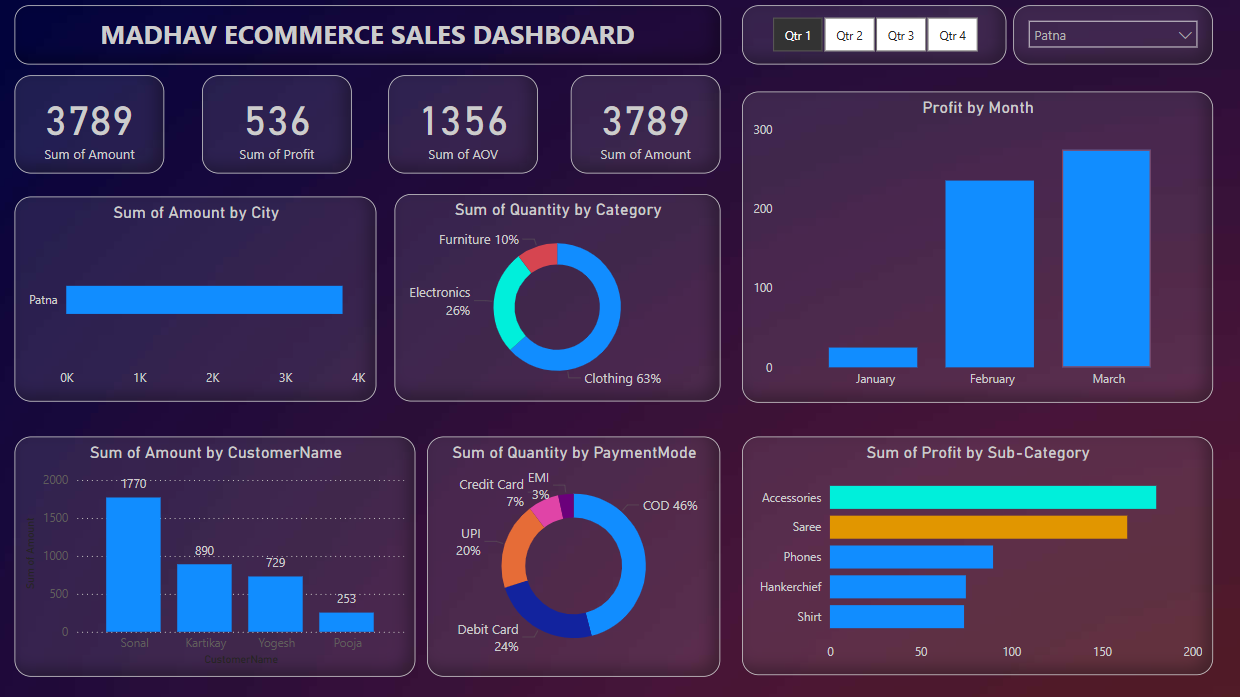

Layout of this report page (visuals, bound fields, positions):
{"tool":"powerbi","page":{"name":"Page 1","canvas":[1280,720],"ordinal":0},"visuals":[{"type":"textbox","box":[17.8,5.9,724.5,60.7],"z":0},{"type":"columnChart","title":"Profit by Month","fields":{"Category":["Orders.Order Date.Variation.Date Hierarchy.Month"],"Y":["Details.Profit"]},"box":[763.7,95.2,483,318.8],"z":1000},{"type":"barChart","fields":{"Category":["Details.Sub-Category"],"Y":["Details.Profit"]},"box":[763.7,448.5,483,245.1],"z":2000},{"type":"donutChart","fields":{"Category":["Details.Category"],"Y":["Details.Quantity"]},"box":[408,199.9,334.3,212.9],"z":3000},{"type":"donutChart","fields":{"Category":["Details.PaymentMode"],"Y":["Details.Quantity"]},"box":[441.3,448.5,301,246.2],"z":4000},{"type":"card","fields":{"Values":["Details.Amount"]},"box":[17.8,78.5,153.5,101.1],"z":5000},{"type":"card","fields":{"Values":["Details.Amount"]},"box":[588.8,78.5,153.5,101.1],"z":6000},{"type":"card","fields":{"Values":["Details.AOV"]},"box":[400.9,78.5,153.5,101.1],"z":7000},{"type":"card","fields":{"Values":["Details.Profit"]},"box":[210.6,78.5,153.5,101.1],"z":8000},{"type":"barChart","fields":{"Category":["Orders.City"],"Y":["Details.Amount"]},"box":[17.8,202.2,371.2,210.6],"z":9000},{"type":"columnChart","fields":{"Category":["Orders.CustomerName"],"Y":["Details.Amount"]},"box":[17.8,448.5,411.6,246.2],"z":10000},{"type":"slicer","fields":{"Values":["Orders.City"]},"box":[1042.1,5.9,204.6,60.7],"z":10001},{"type":"slicer","fields":{"Values":["Orders.Order Date.Variation.Date Hierarchy.Quarter"]},"box":[763.7,5.9,271.2,60.7],"z":10002}]}

Visuals, with their boxes in screenshot pixels (x1, y1, x2, y2), scaled from the page's 1280x720 canvas onto the 1240x697 screenshot:
textbox: rect(17, 6, 719, 64)
"Profit by Month" columnChart: rect(740, 92, 1208, 401)
barChart - Details.Sub-Category x Details.Profit: rect(740, 434, 1208, 671)
donutChart - Details.Category x Details.Quantity: rect(395, 194, 719, 400)
donutChart - Details.PaymentMode x Details.Quantity: rect(428, 434, 719, 673)
card - Details.Amount: rect(17, 76, 166, 174)
card - Details.Amount: rect(570, 76, 719, 174)
card - Details.AOV: rect(388, 76, 537, 174)
card - Details.Profit: rect(204, 76, 353, 174)
barChart - Orders.City x Details.Amount: rect(17, 196, 377, 400)
columnChart - Orders.CustomerName x Details.Amount: rect(17, 434, 416, 673)
slicer - Orders.City: rect(1010, 6, 1208, 64)
slicer - Orders.Order Date.Variation.Date Hierarchy.Quarter: rect(740, 6, 1003, 64)
